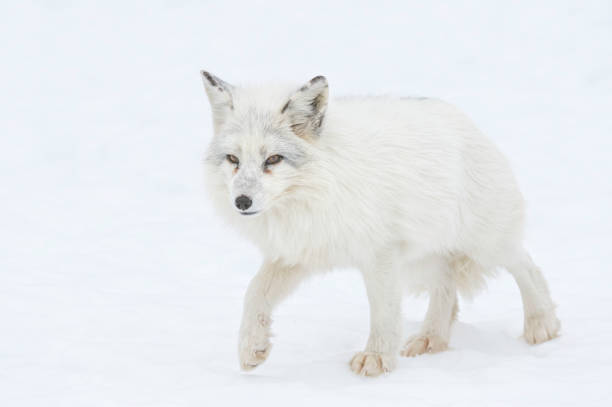arcticfox: (209, 110, 317, 229)
